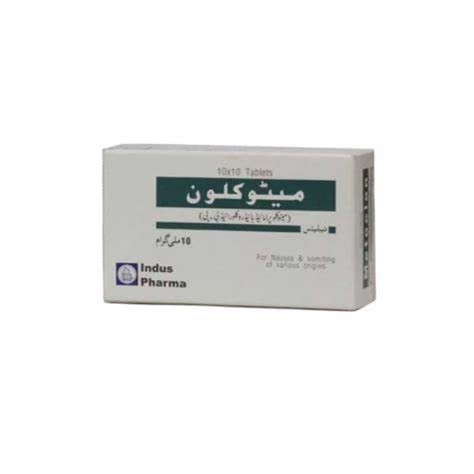Medicine: (93, 135, 383, 319)
